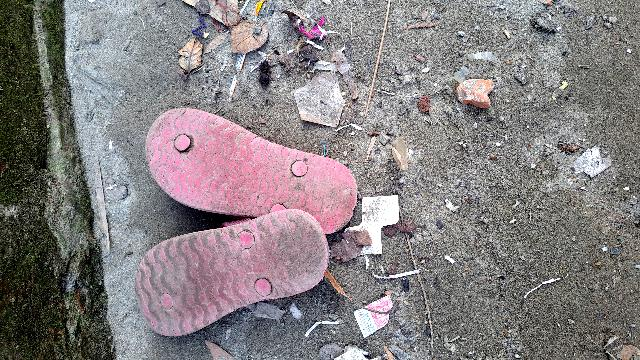sandal: (114, 100, 372, 270), (122, 197, 343, 354)
